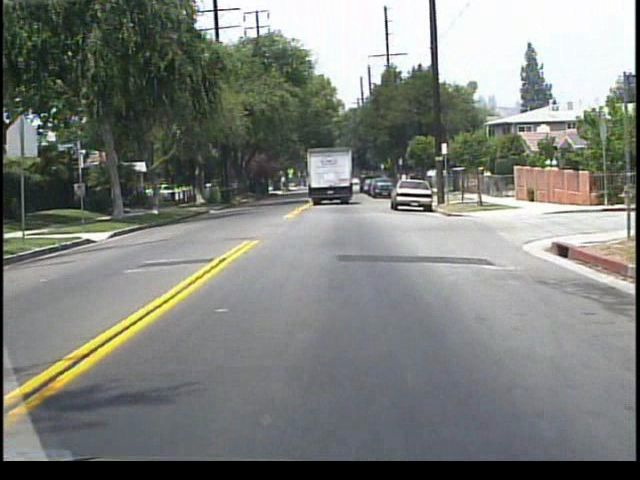person: (479, 166, 493, 197)
